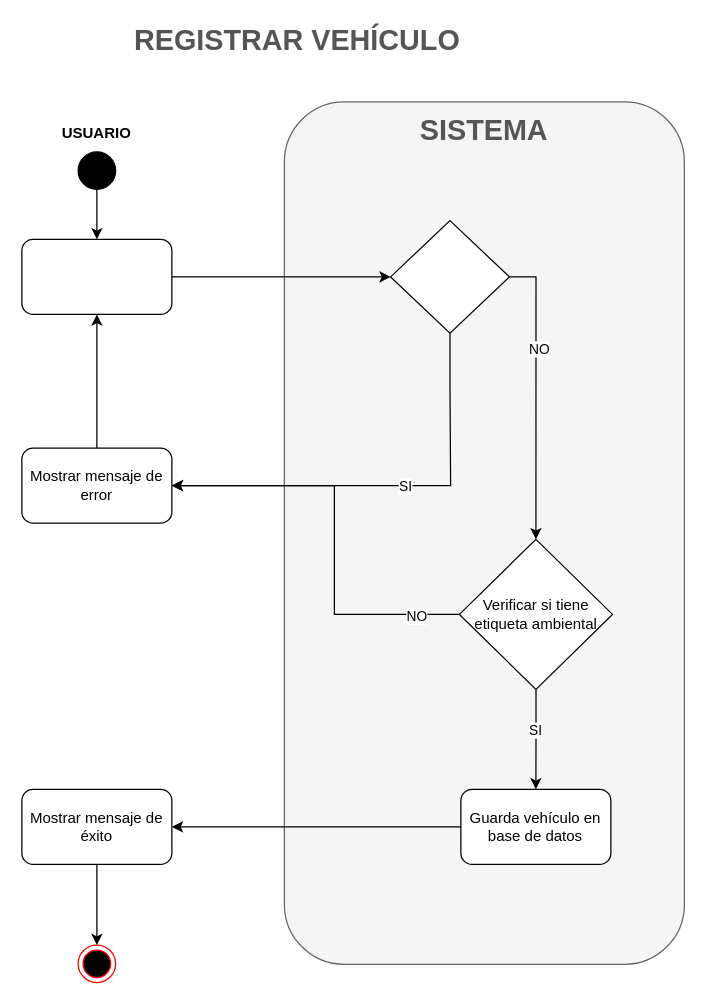
Image size: 706x1004. Some labels were removed from this diagram. Here are the shapes that lost their labels. From the top down, the box of each, then its label:
(21, 238, 172, 314): Solicitar datos del vehículo
(389, 219, 509, 333): verificar matrícula duplicada
